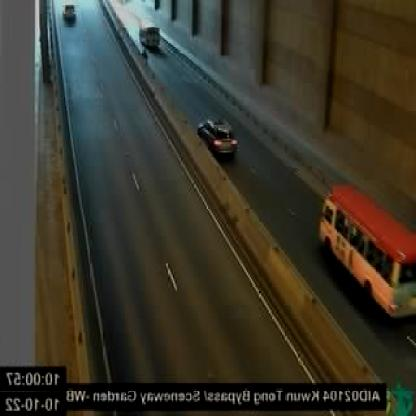Bus: (139, 24, 160, 48)
Car: (196, 117, 240, 160), (61, 3, 76, 21)
Minibus: (319, 179, 416, 318)
